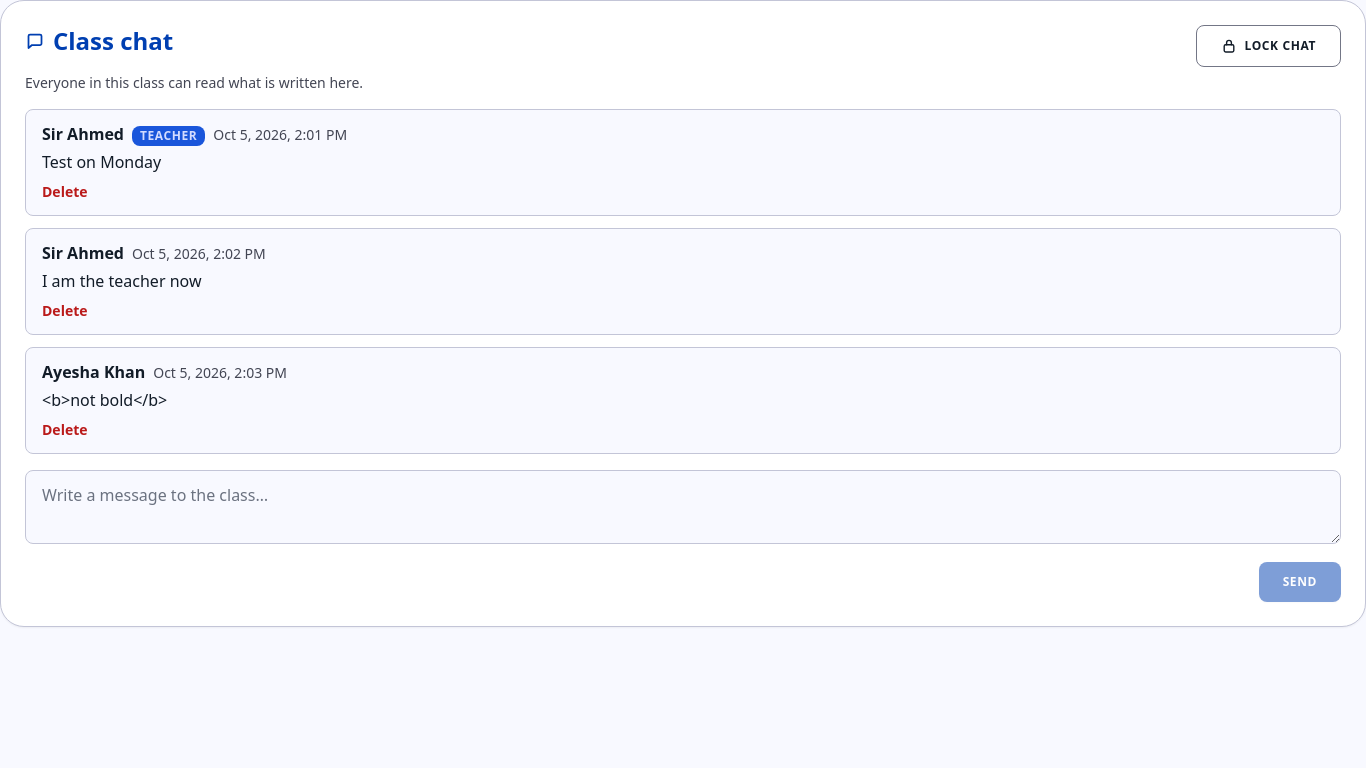
Test: the teacher › deletes after confirming, and keeps reading what was deleted
Expected: the text "I am the teacher now" is shown, top-left (42, 270), bottom-right (202, 292)
What coordinates should you click on to do the following:
click the button "Delete" below "Oct 5, 2026, 2:02 PM"
I would click on:
 (65, 311)
Its box is top-left (42, 301), bottom-right (88, 321).
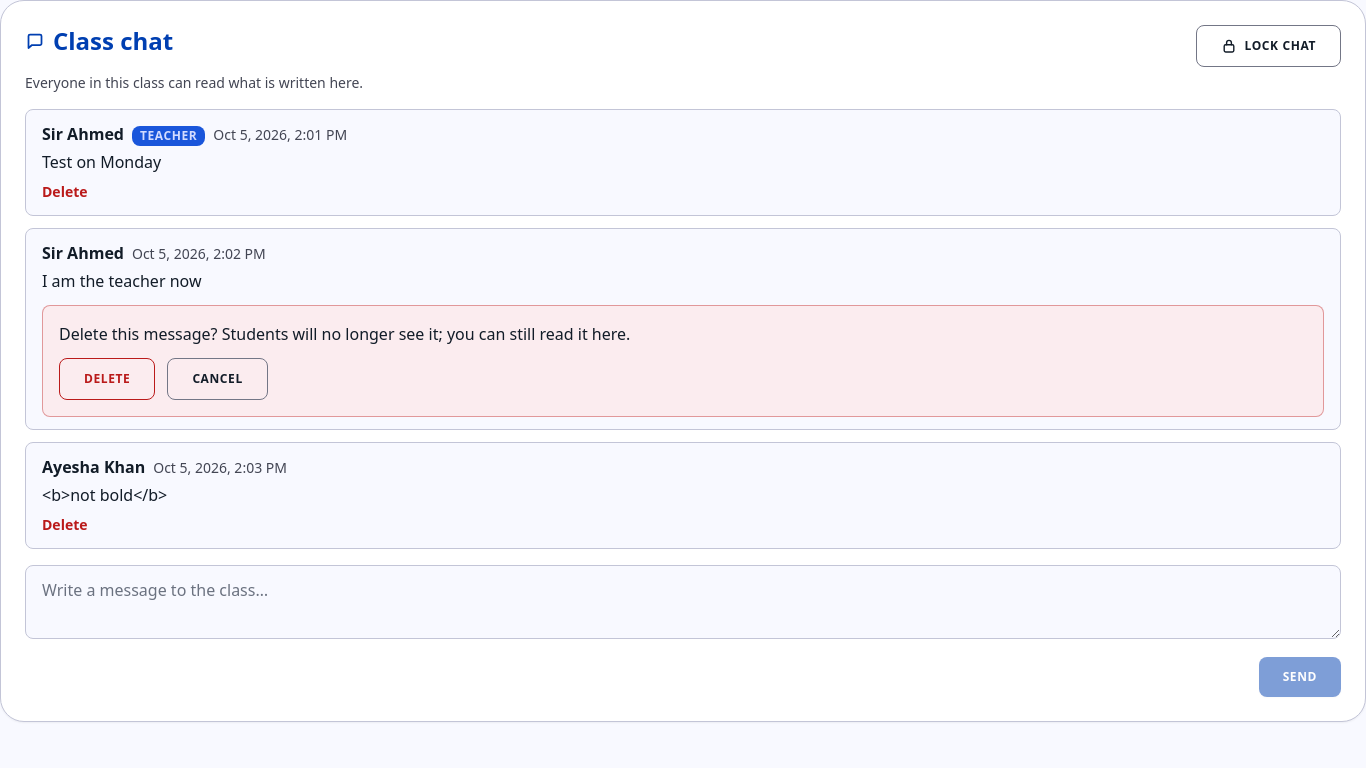
What coordinates should you click on to do the following:
click the button "Delete" below "Oct 5, 2026, 2:02 PM"
I would click on:
 (107, 379)
Its box is top-left (59, 358), bottom-right (155, 400).
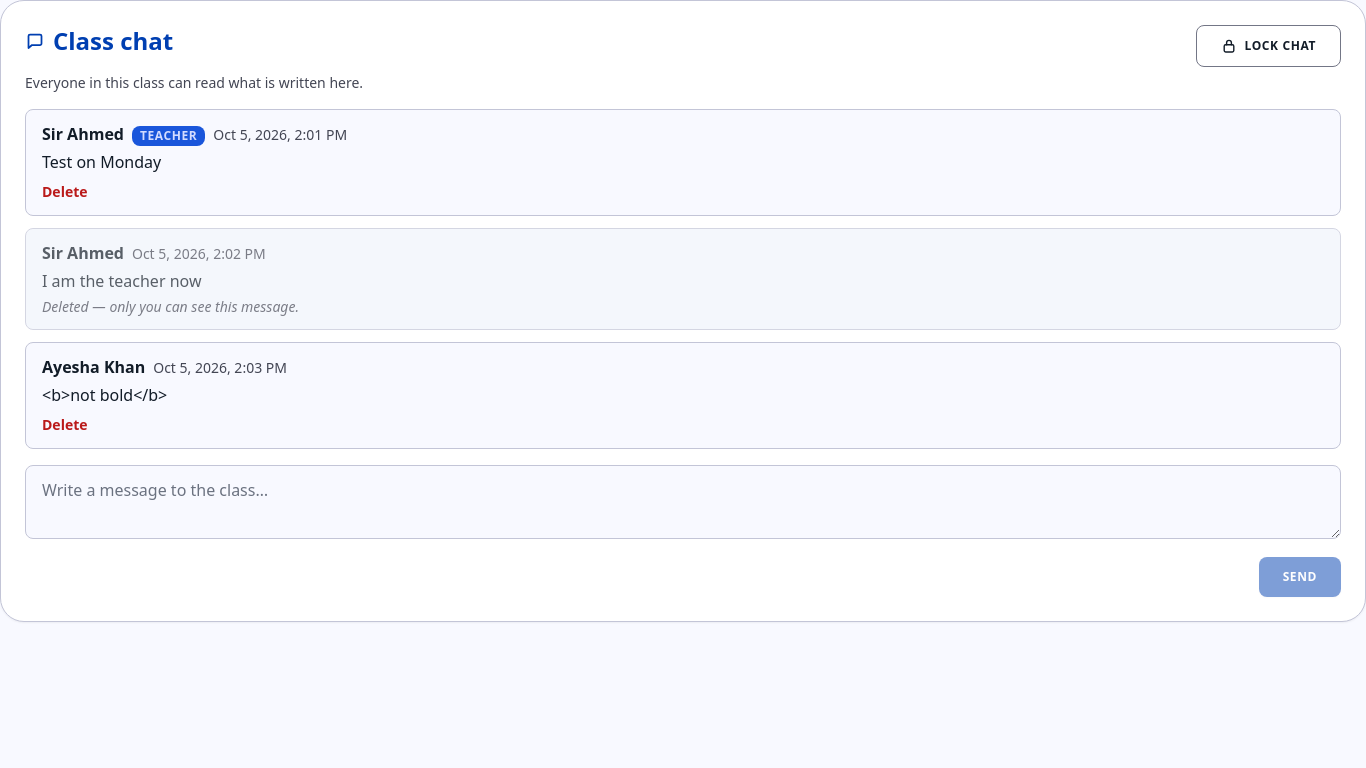
Expected: the text "Deleted — only you can see this message." is shown, top-left (42, 297), bottom-right (299, 316)
